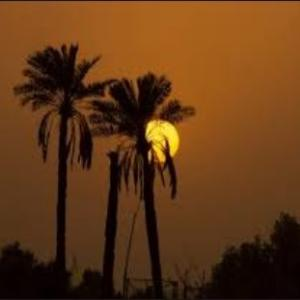palm tree: (12, 40, 116, 275), (88, 70, 195, 298)
